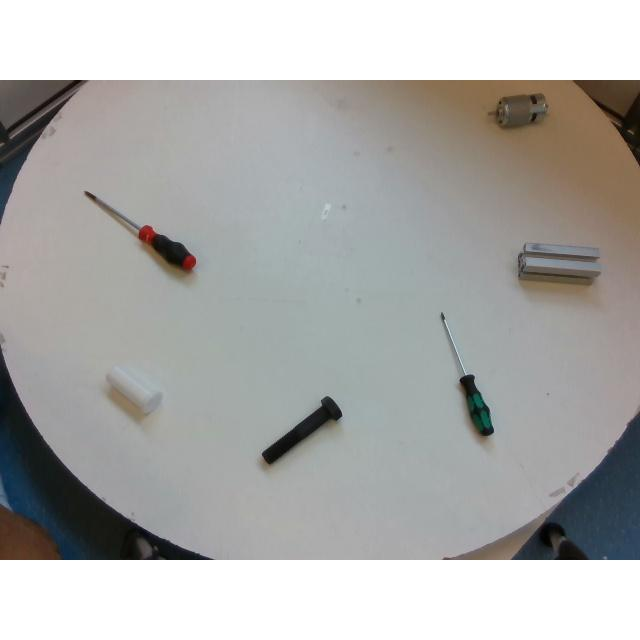M20_100: (262, 396, 342, 464)
Motor2: (485, 94, 547, 130)
S40_40_G: (518, 243, 600, 279)
Screwdriver: (441, 312, 493, 436)
Spacer: (106, 366, 162, 414)
